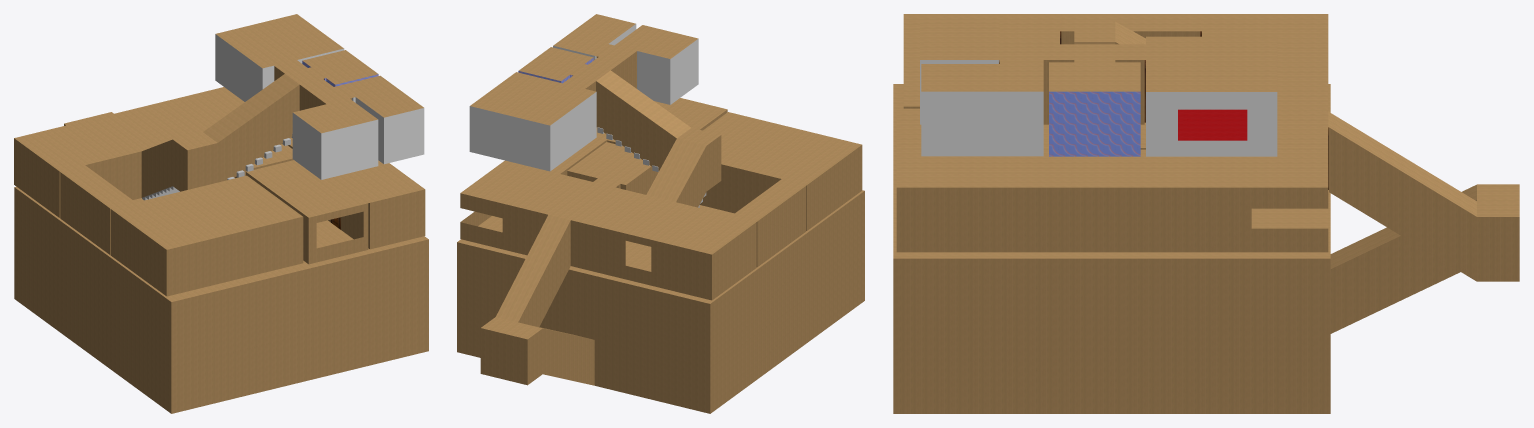
File: House.fbx
The picture shows the model from 3 angles, left to right: view 1: azimuth 30°, elevation 25°; view 2: azimuth 150°, elevation 25°; view 3: azimuth 270°, elevation 25°; orthographic projection. The views are drawn at different scales.
Parts seen in each view (by area): view 1: Cube, Cube.004; view 2: Cube; view 3: Cube.
Part boxes in pixels (x1,y1,x2,y2): Cube: [14, 14, 428, 413]; Cube.004: [227, 133, 292, 179]; Cube: [457, 14, 864, 413]; Cube: [893, 14, 1519, 413].
Size of the model in its own units: 1981 by 1679 by 2921.
